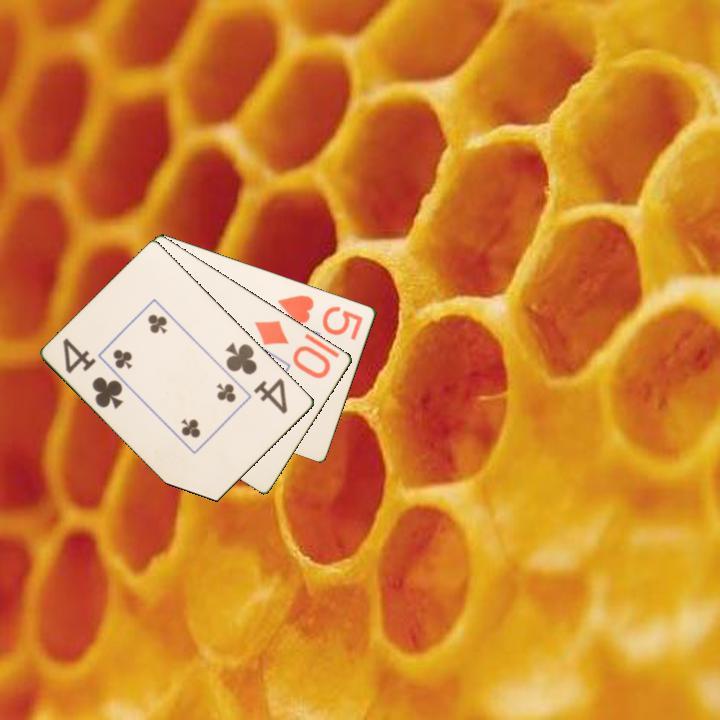10d: (251, 316, 334, 382)
4c: (222, 339, 291, 417), (59, 334, 127, 413)
5h: (274, 291, 366, 343)
